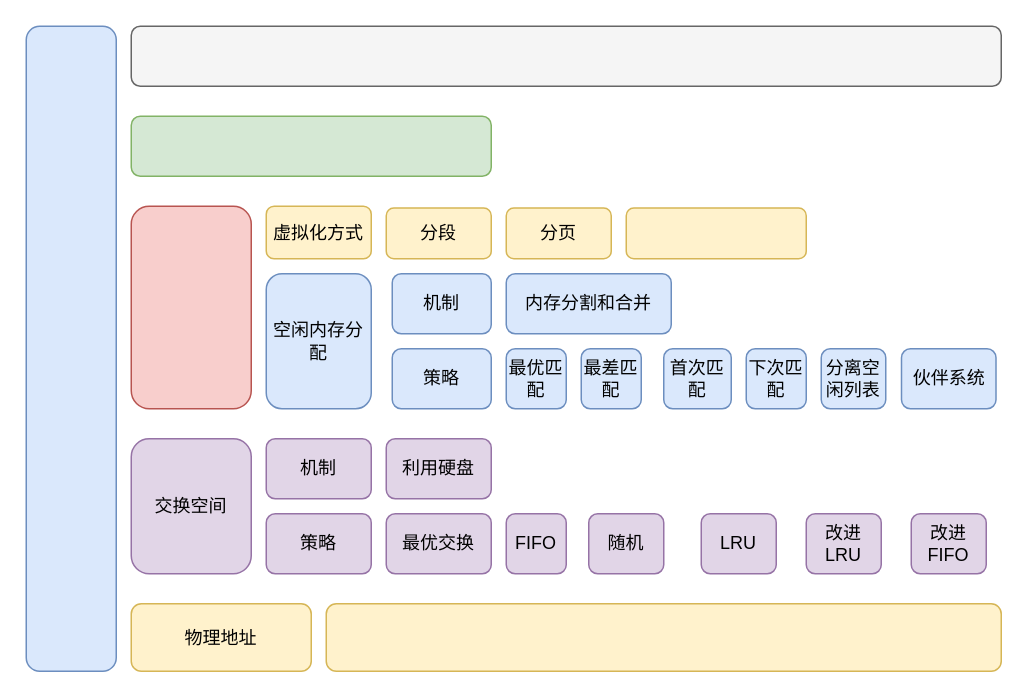
The diagram is 1028 pixels wide and 698 high, and some of its shapes have lost their labels. The shapes that lost their labels are listed below. From the top down, each one's centre as x and y in pixels, then its label:
point (565, 55): 虚拟地址
point (310, 145): TLB
point (715, 233): 混合分页分段
point (190, 307): 内存管理
point (70, 348): 内存虚拟化，地址转换
point (663, 636): 基地址 + 偏移量
